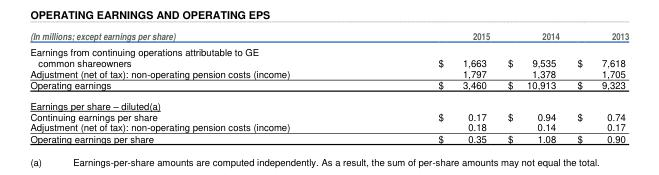table: (29, 29, 628, 144)
table column: (29, 29, 363, 144), (363, 29, 498, 144), (498, 29, 567, 144), (567, 29, 628, 144)
table column header: (29, 29, 628, 43)
table projected row header: (29, 94, 628, 110), (29, 43, 628, 57)
table row: (29, 78, 628, 94), (29, 94, 628, 110), (29, 29, 628, 43), (29, 43, 628, 57), (29, 132, 628, 144), (29, 67, 628, 78), (29, 110, 628, 121), (29, 121, 628, 132), (29, 57, 628, 67)
